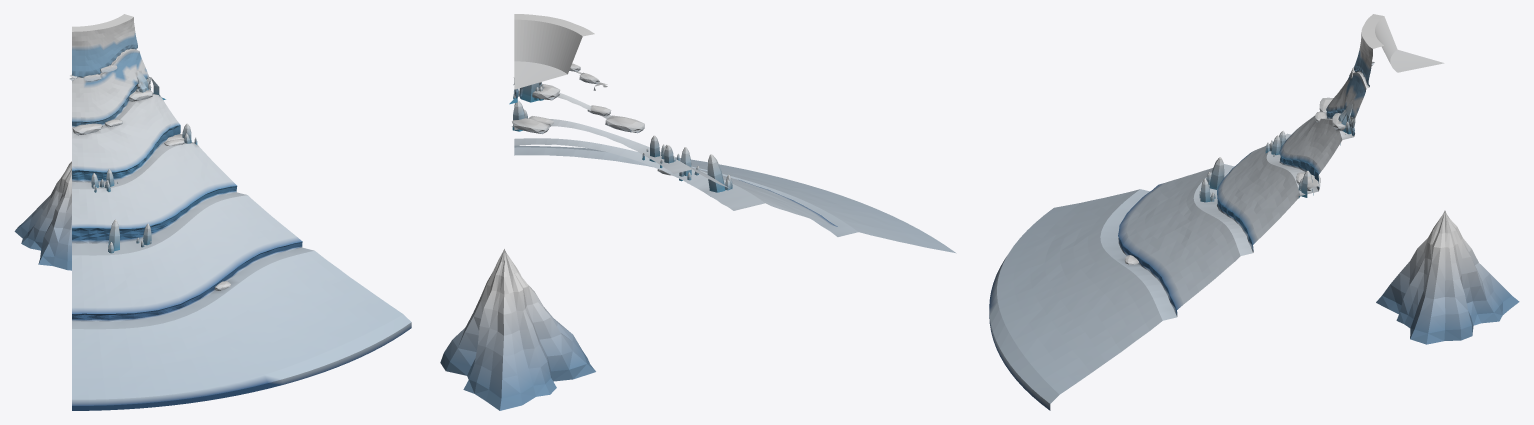
Rendered from glacier-s5-CB36ghgZ.glb.
3 views of the same model, side by side, from view 1: azimuth 30°, elevation 25°; view 2: azimuth 150°, elevation 25°; view 3: azimuth 270°, elevation 25° (orthographic). The views are drawn at different scales.
Visible parts, largest first — view 1: sc_landmark_4, sc_peak_1; view 2: sc_landmark_4, sc_peak_1; view 3: sc_landmark_4, sc_peak_1.
Boxes of the visible parts, x1=… form: sc_landmark_4: x1=69, y1=14, x2=411, y2=410; sc_peak_1: x1=14, y1=161, x2=71, y2=270; sc_landmark_4: x1=509, y1=14, x2=956, y2=253; sc_peak_1: x1=440, y1=249, x2=595, y2=410; sc_landmark_4: x1=989, y1=14, x2=1444, y2=410; sc_peak_1: x1=1376, y1=210, x2=1519, y2=344.
Bounding box in the file's own units: 416 × 286 × 485.
